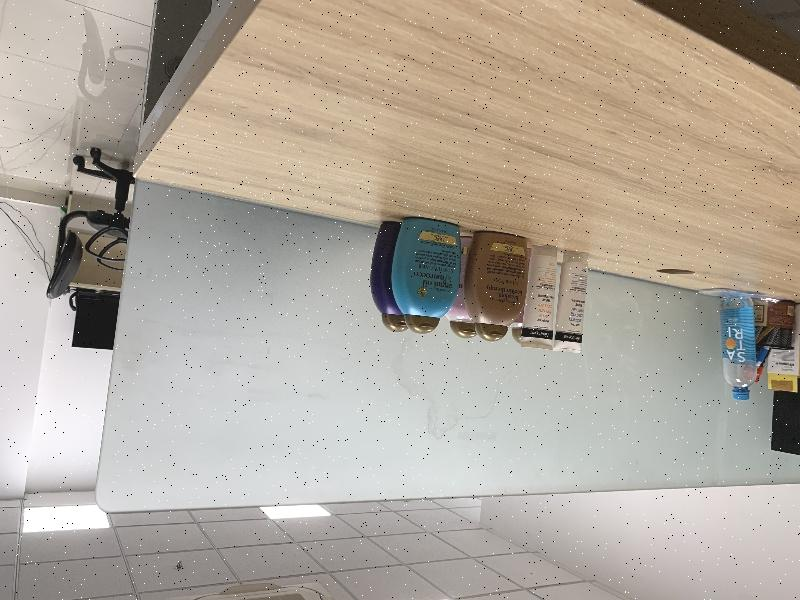AcneFoamingCleanser: (522, 245, 559, 350)
ArganOilOfMorocco_Conditioner: (391, 218, 461, 334)
BrazilianKeratinTherapy_Shampoo: (464, 231, 529, 342)
HydratingFoamingCleanser: (554, 251, 589, 354)
